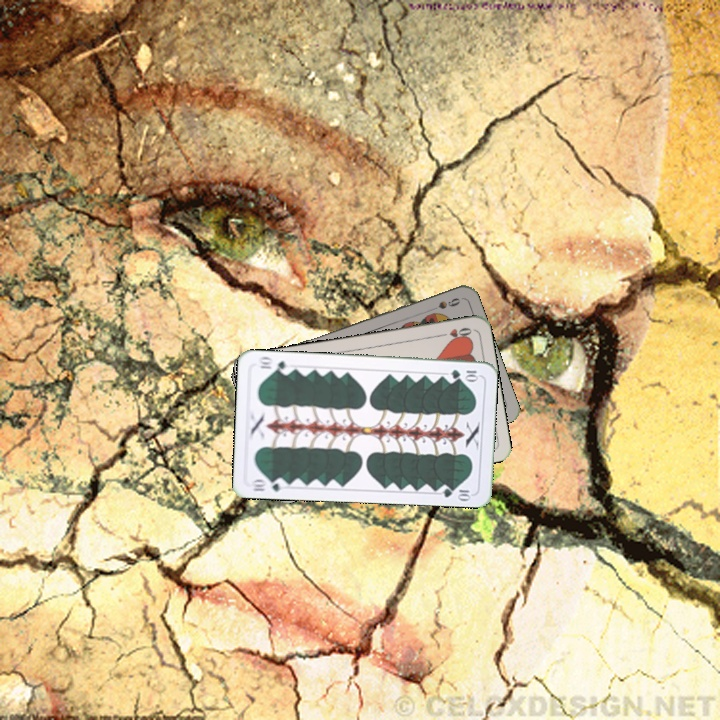G10: (247, 474, 288, 494), (447, 366, 480, 382)
HO: (435, 323, 474, 342)
S9: (424, 294, 463, 314)
